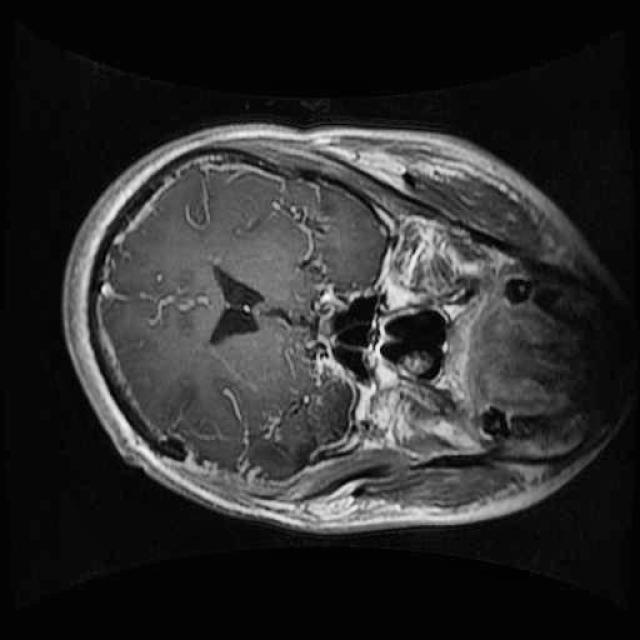Tumor: (247, 360, 378, 494)
